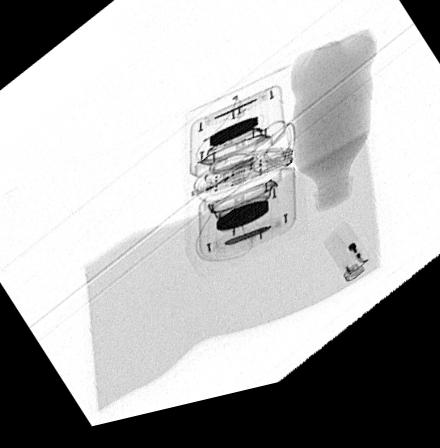Lighter: (323, 237, 375, 298)
